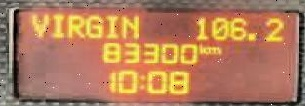-: (245, 29, 255, 40)
0: (115, 68, 137, 94), (145, 69, 167, 93), (208, 14, 227, 40), (158, 40, 177, 63), (179, 42, 195, 63)
1: (193, 14, 207, 40), (109, 69, 114, 91)
2: (262, 15, 283, 40)
3: (140, 40, 157, 63), (122, 40, 138, 63)
6: (229, 16, 245, 39)
8: (100, 40, 120, 63), (168, 69, 187, 93)
X: (27, 10, 48, 37), (119, 12, 140, 38), (65, 13, 84, 38), (83, 13, 102, 38), (50, 11, 64, 39), (104, 12, 119, 38), (205, 44, 222, 54), (137, 70, 143, 89), (197, 40, 205, 54)
